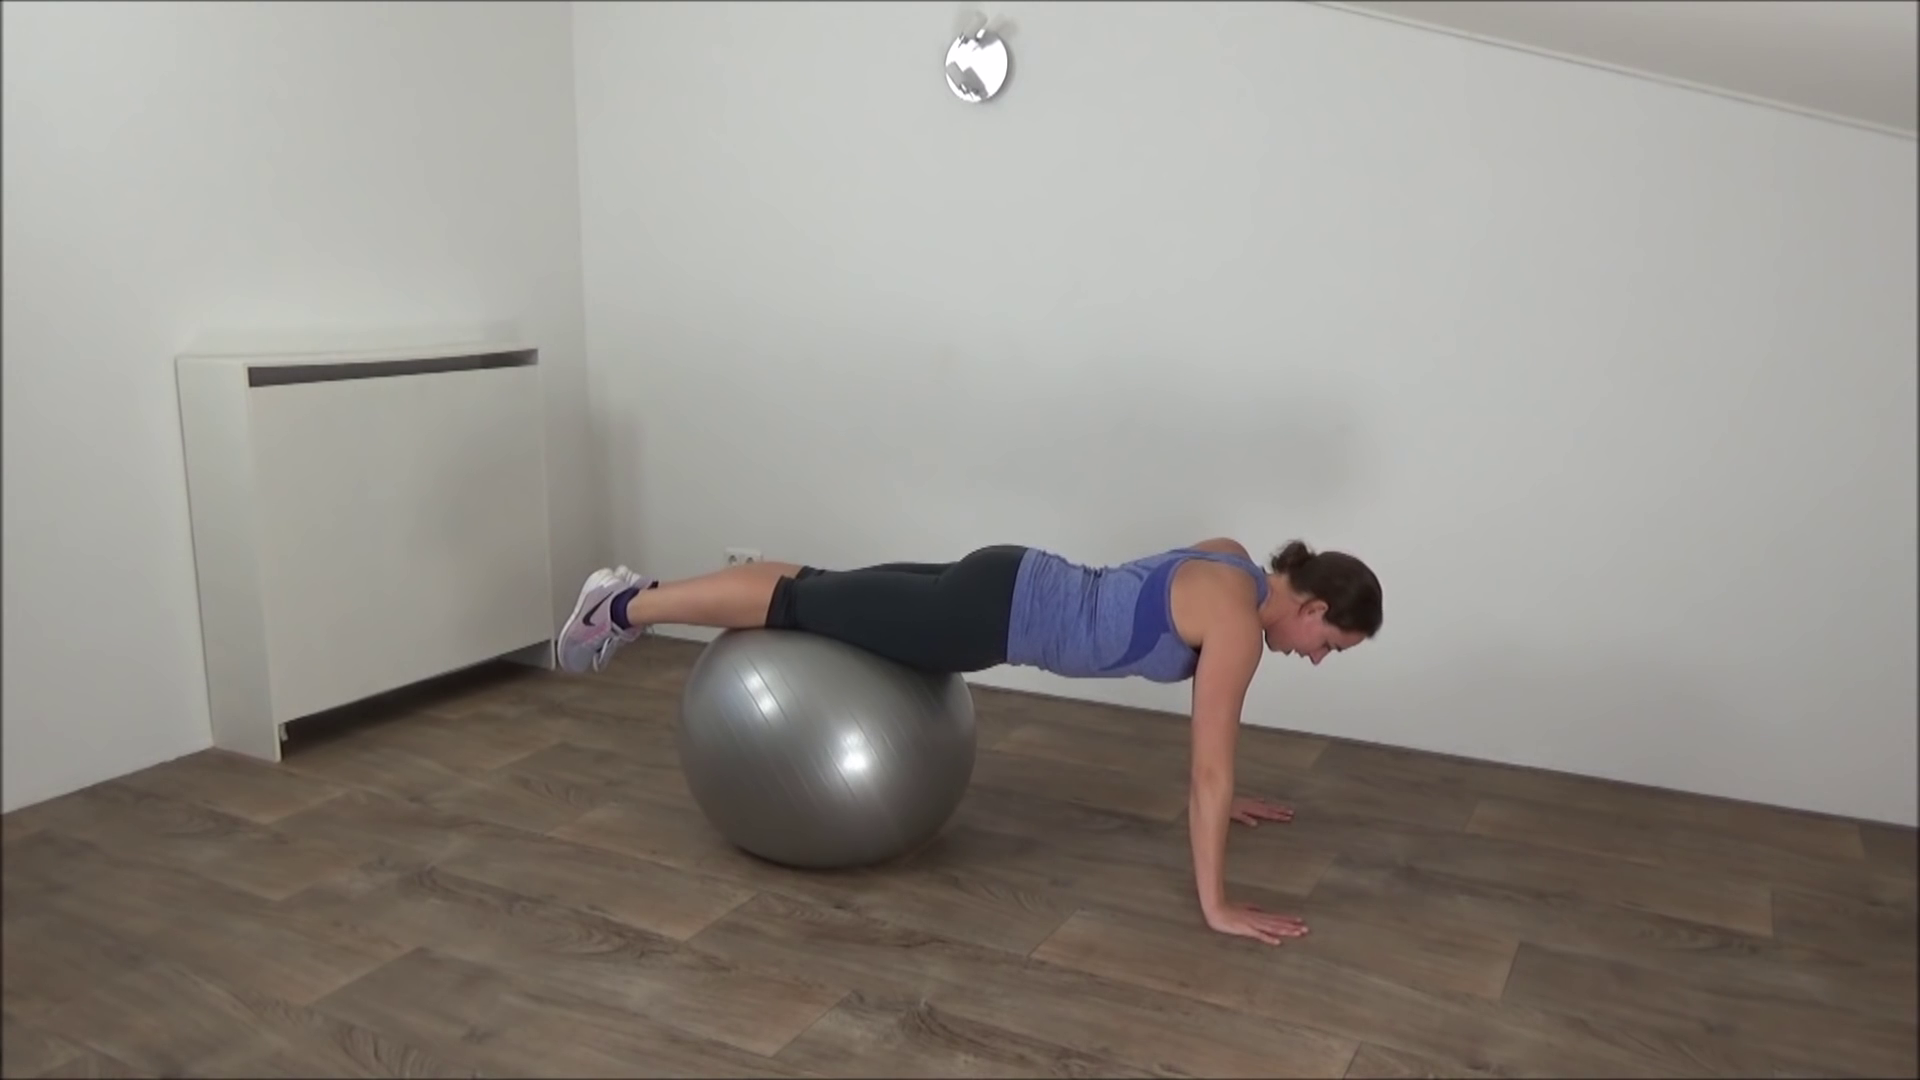yogaball: (644, 605, 1007, 878)
